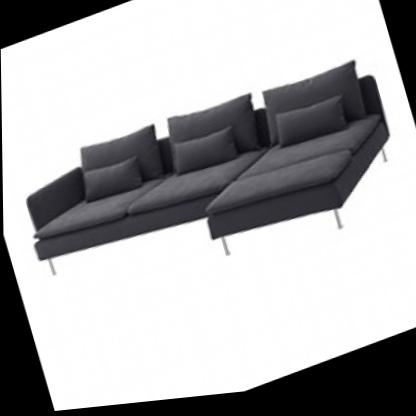Sofa: (1, 15, 416, 355)
